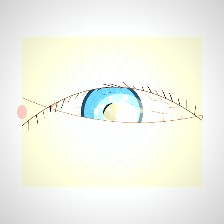corneal_ulcer: (93, 94, 149, 139)
